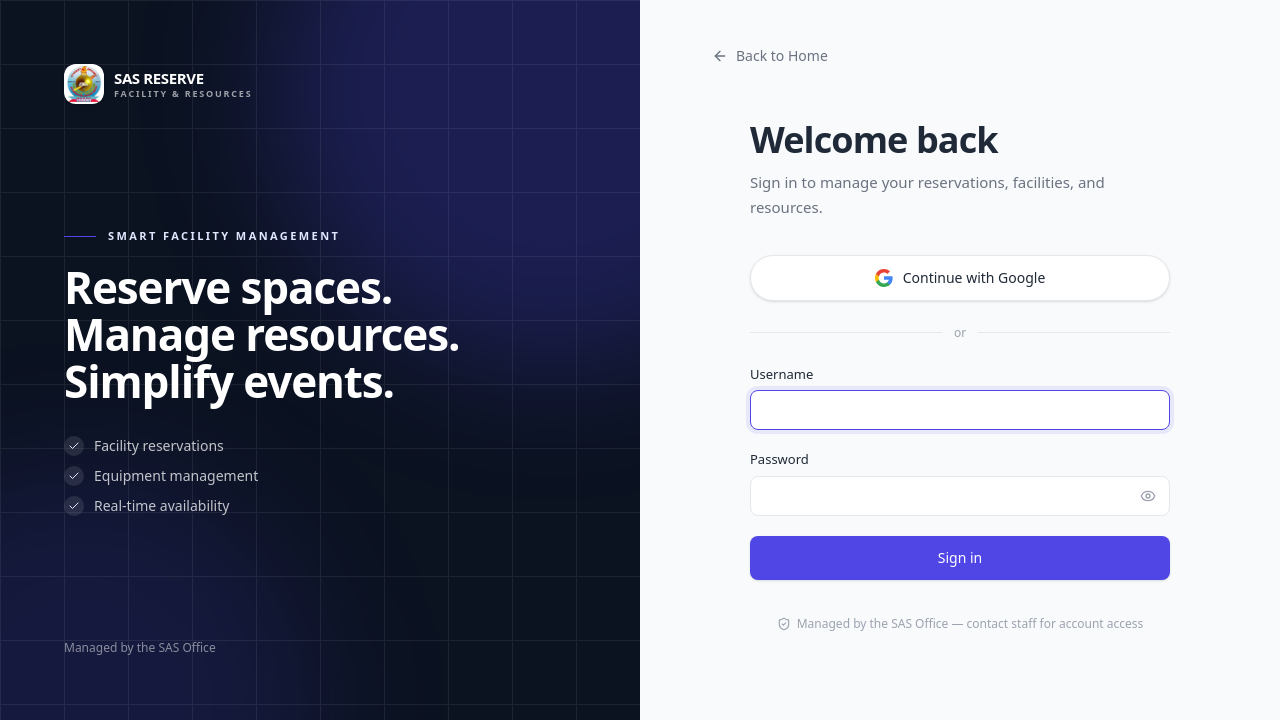
LoginPage — deactivated account modal › invalid credentials keep the existing inline error and show no modal
Type "req" into the field labelled "Username".
click(960, 410); type("req")  # box [750,390,1170,430]
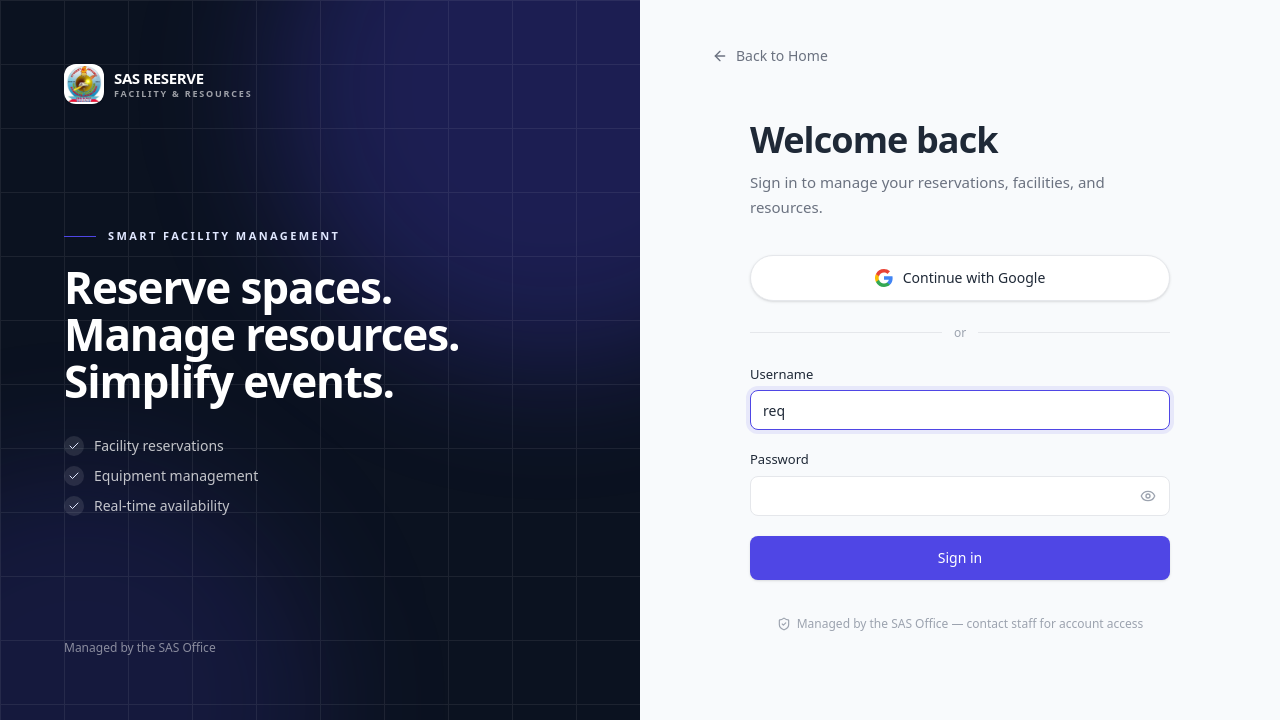
Type "wrong-pass!" into the password field labelled "Password".
click(960, 496); type("wrong-pass!")  # box [750,476,1170,516]
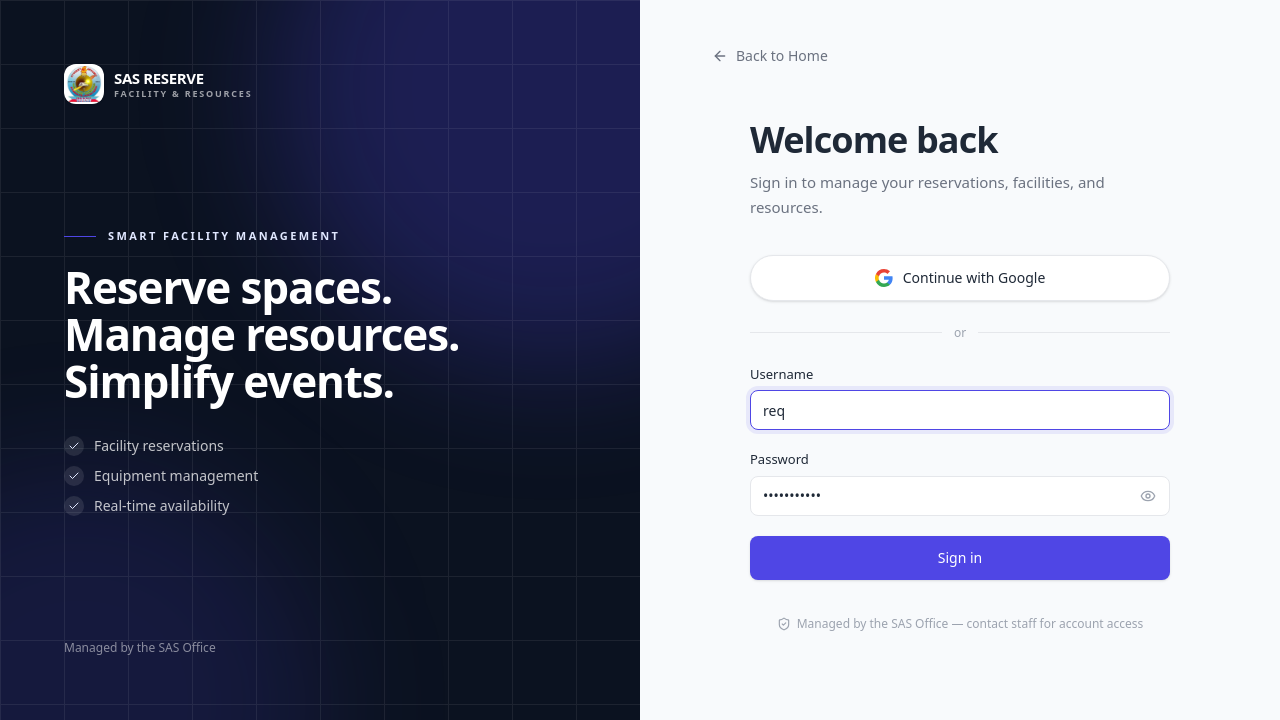
Click the button "Sign in".
click(960, 558)  # box [750,536,1170,580]
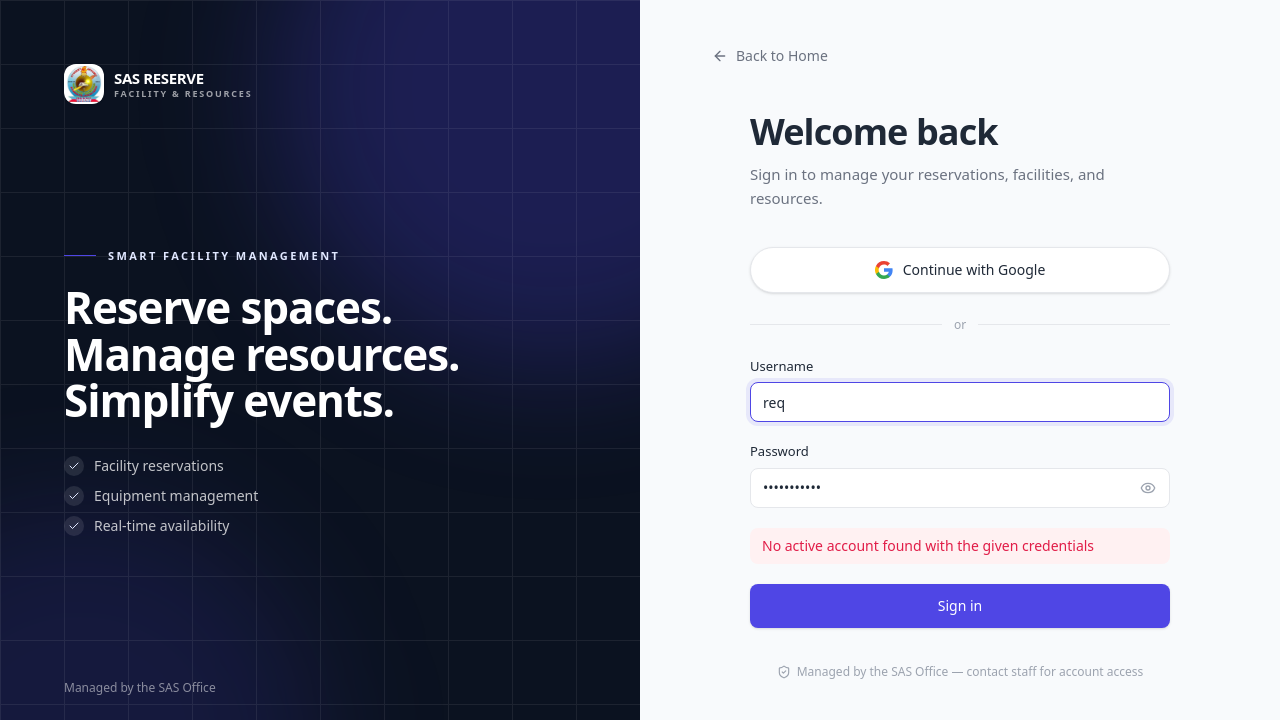
Check: the message reads "No active account found with the given credentials", box [762,536,1094,555]
